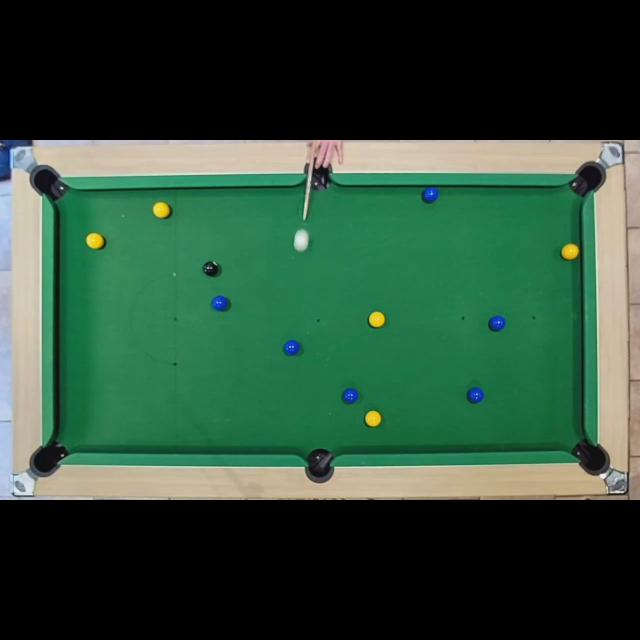Ball: (561, 243, 579, 259), (86, 233, 104, 249), (293, 232, 309, 250), (153, 202, 170, 218), (202, 260, 218, 276), (423, 187, 439, 203), (342, 388, 358, 404), (467, 387, 483, 403), (365, 411, 381, 427), (489, 316, 505, 332), (284, 340, 300, 356), (369, 312, 385, 328), (212, 296, 226, 312)
